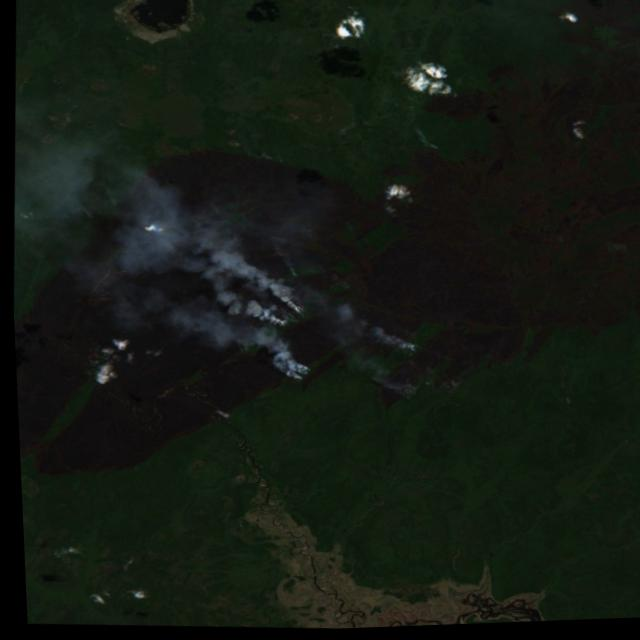fire: (253, 287, 308, 334), (382, 377, 440, 417), (272, 355, 320, 393), (392, 341, 419, 358), (416, 142, 439, 157)
